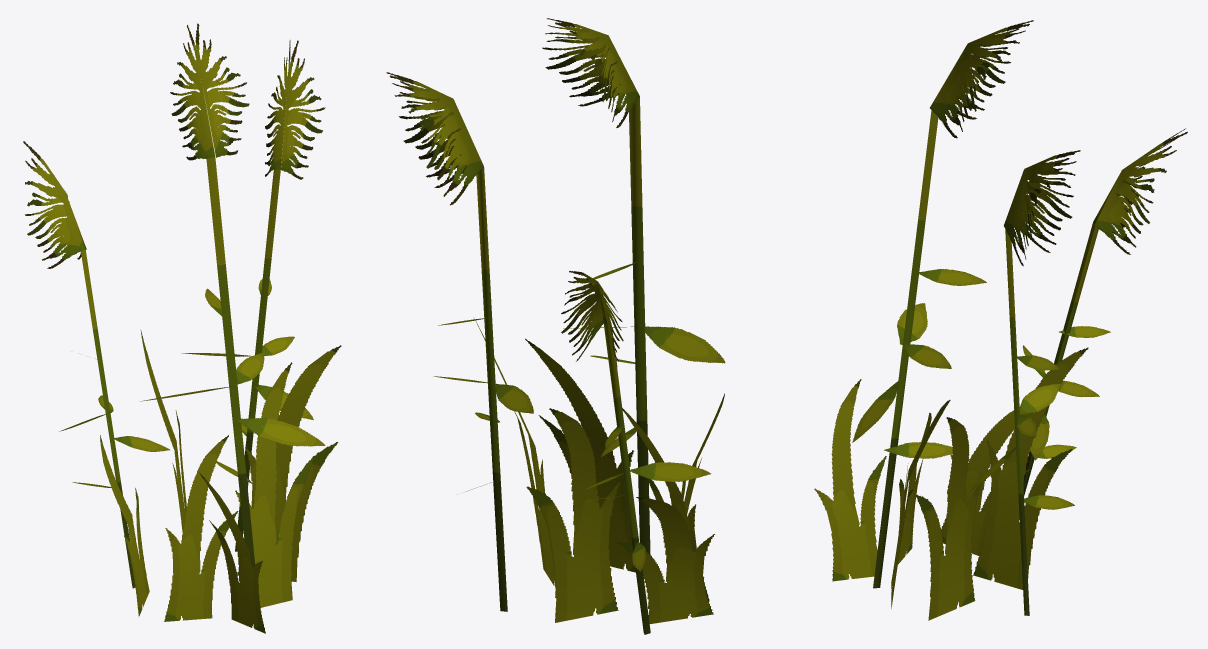
File: Reed_preview_3DS_simplified.glb
3 renders of one model, left to right at view 1: azimuth 30°, elevation 25°; view 2: azimuth 150°, elevation 25°; view 3: azimuth 270°, elevation 25°, orthographic. The views are drawn at different scales.
Parts seen in each view (by area): view 1: Marine Park Empire model; view 2: Marine Park Empire model; view 3: Marine Park Empire model.
Part boxes in pixels (x1,y1,x2,y2): Marine Park Empire model: (23,23,341,633); Marine Park Empire model: (386,18,725,634); Marine Park Empire model: (814,20,1187,620).
Size of the model in its own units: 42.47 by 76.48 by 49.61.
Materials: 1 (1 with a texture image).
